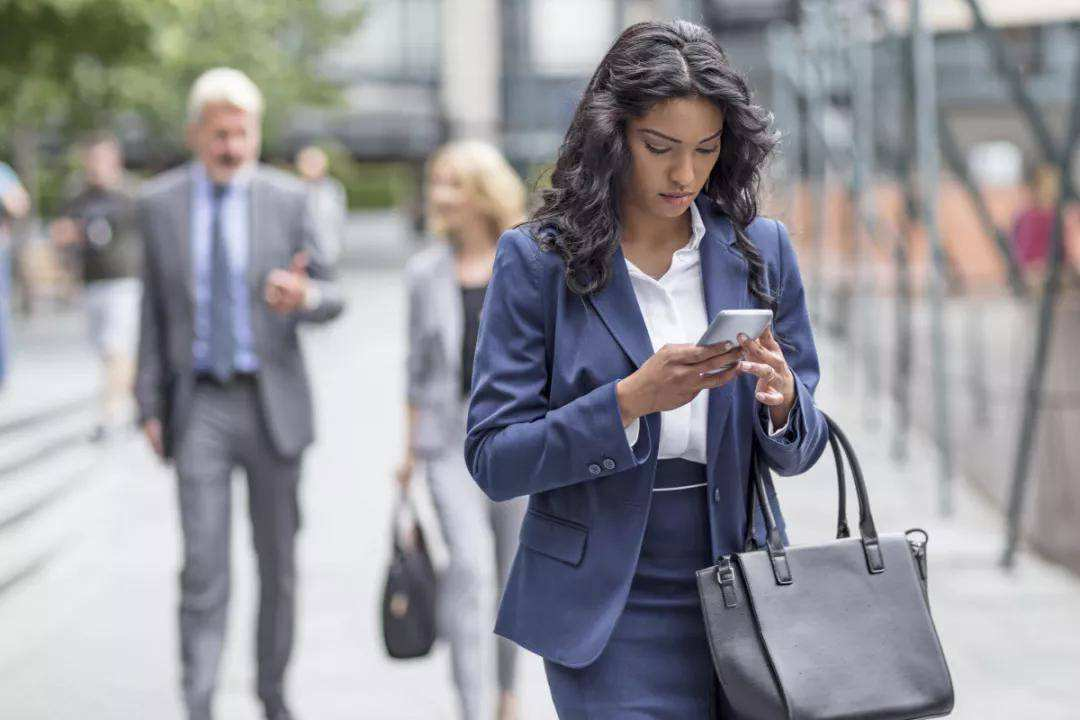reading: (627, 302, 793, 418)
